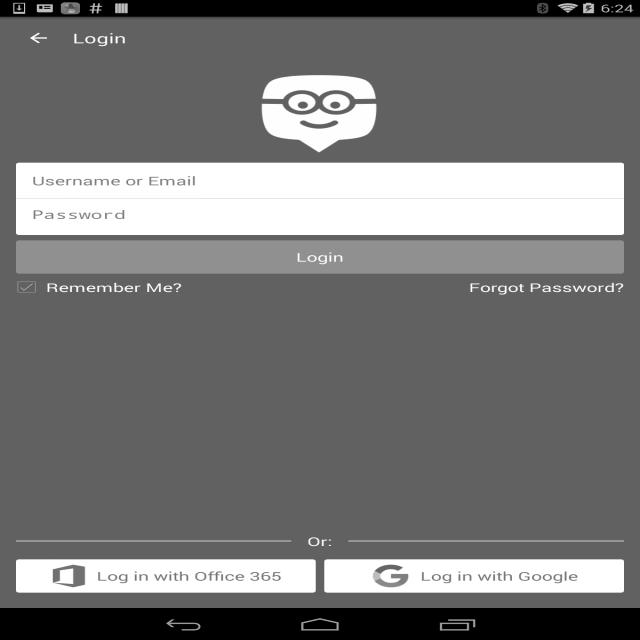CheckBox: (16, 279, 182, 295)
EditText: (16, 165, 624, 199), (16, 199, 624, 232)
ImageButton: (9, 17, 68, 59)
ImageView: (245, 69, 395, 163), (369, 565, 412, 587), (50, 565, 88, 587), (16, 199, 624, 199)
TextView: (96, 568, 282, 584), (420, 568, 578, 584), (469, 279, 624, 295), (72, 29, 126, 47), (296, 249, 343, 265), (307, 533, 332, 549)
